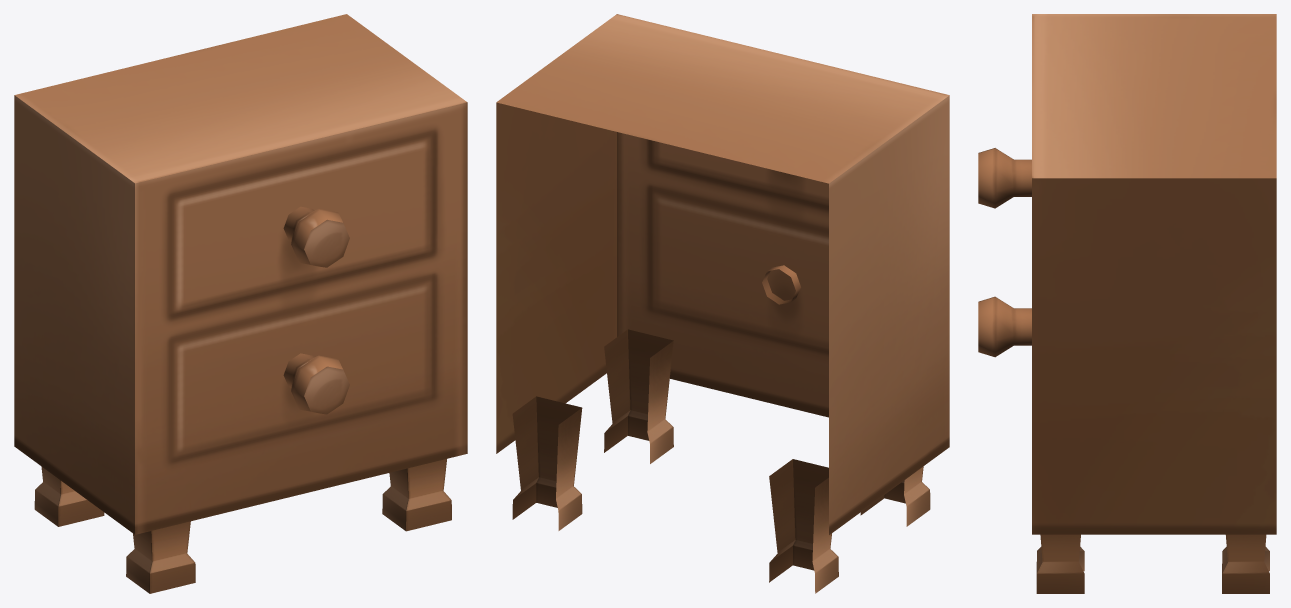
Rendered from Drawer.FBX.
The picture shows the model from 3 angles, left to right: view 1: azimuth 30°, elevation 25°; view 2: azimuth 150°, elevation 25°; view 3: azimuth 270°, elevation 25°; orthographic projection.
Visible parts, largest first — view 1: Box057; view 2: Box057; view 3: Box057.
Boxes of the visible parts, box(x1,y1,x2,y2) form: Box057: box(14, 14, 467, 593); Box057: box(496, 14, 949, 593); Box057: box(978, 14, 1276, 593).
Bounding box in the file's own units: 5.4 × 6.46 × 4.14.
